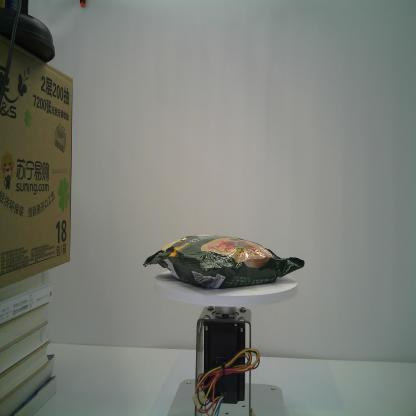Instant Noodles: (141, 232, 306, 291)
